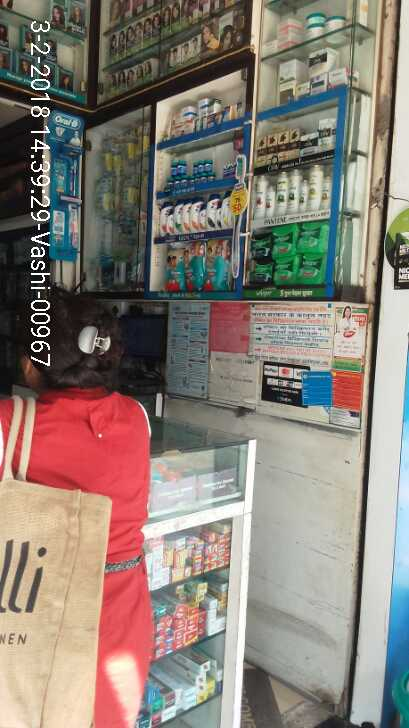beauty: (255, 166, 335, 214), (244, 127, 337, 159), (156, 202, 231, 238)
pharmacy: (249, 226, 330, 284), (161, 232, 228, 291), (163, 152, 233, 181)
